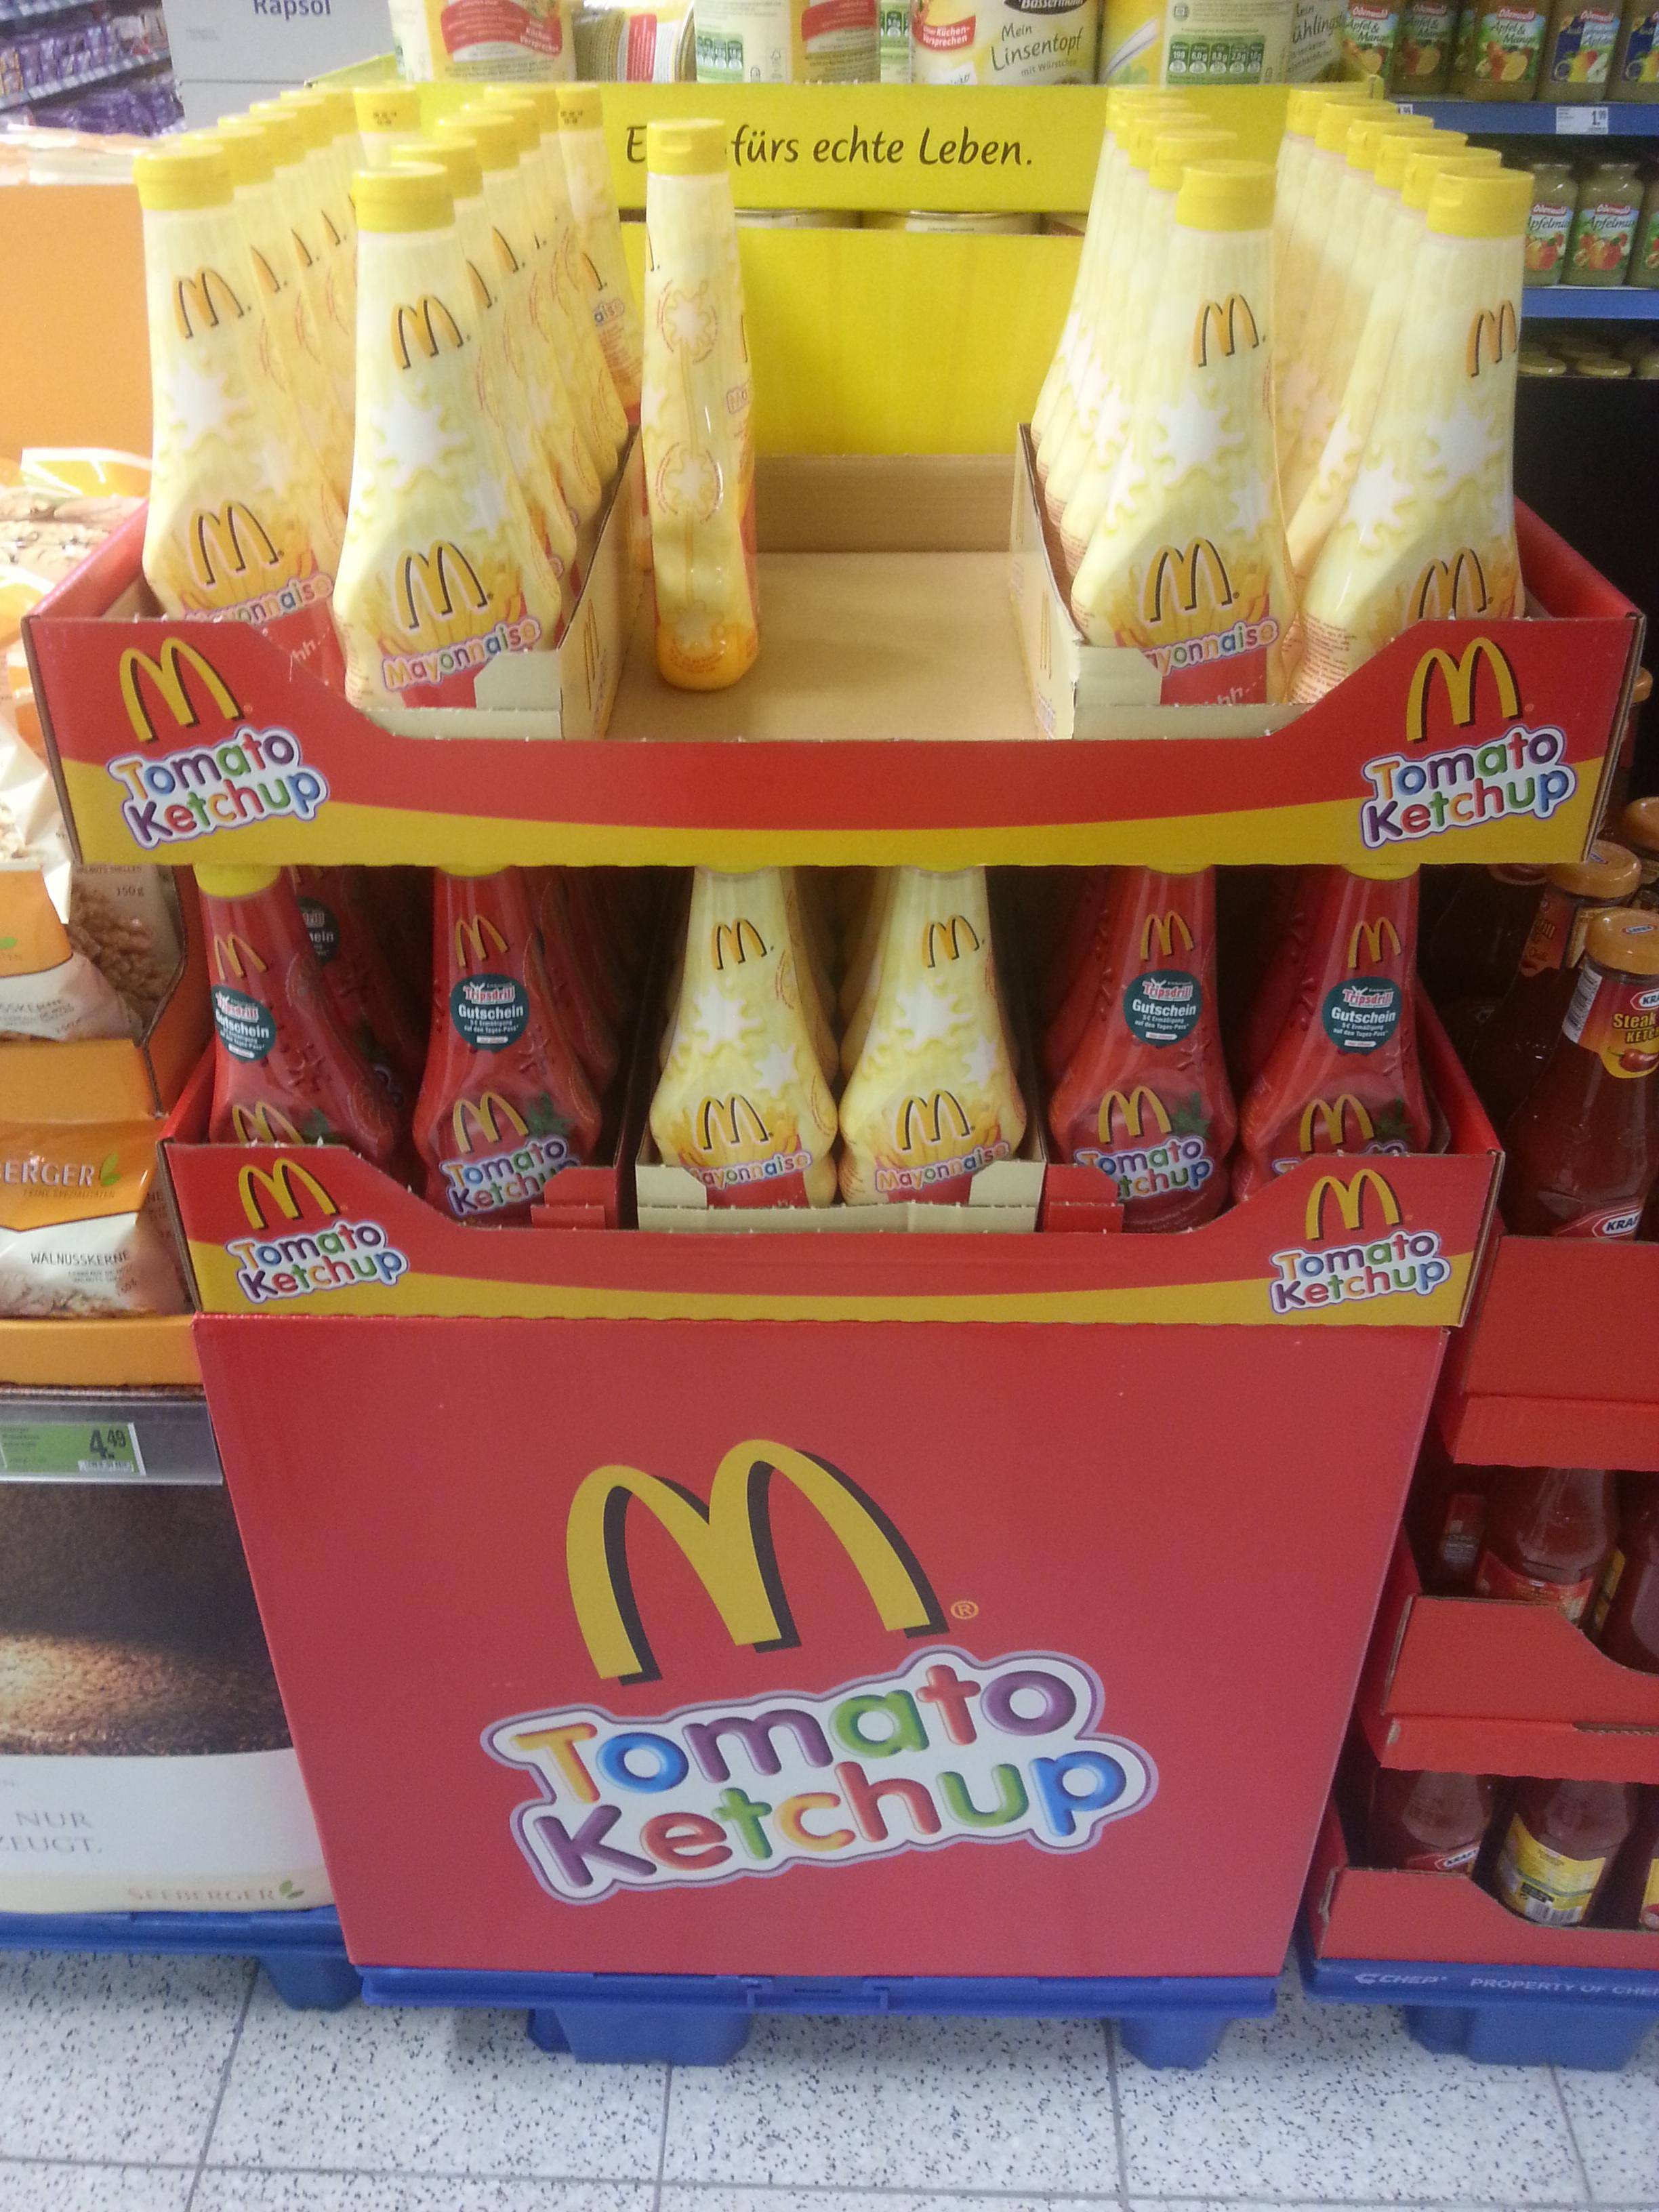mcdonalds: (559, 1444, 936, 1677), (584, 1444, 936, 1677)
